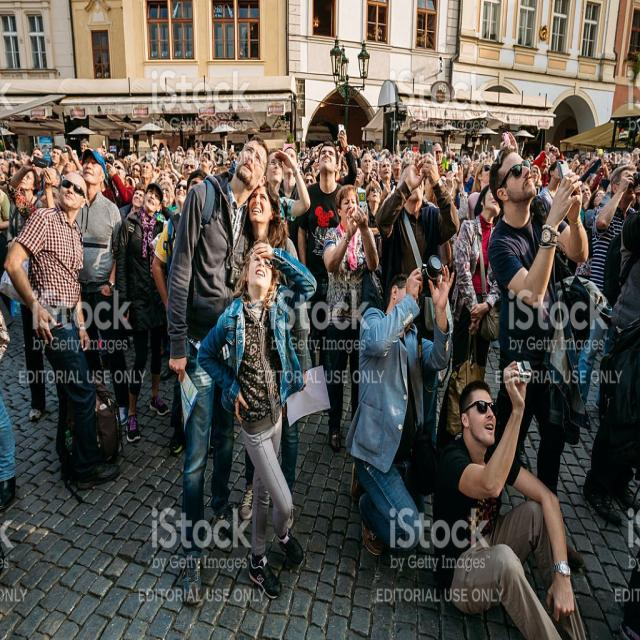body: (165, 132, 269, 608), (478, 145, 592, 566), (195, 235, 318, 600), (432, 360, 587, 640), (2, 170, 122, 484), (343, 261, 455, 558), (374, 148, 460, 499), (238, 180, 310, 531), (297, 135, 639, 204), (0, 135, 252, 210), (8, 172, 82, 424), (152, 169, 210, 455), (577, 162, 640, 410), (322, 183, 380, 450), (114, 180, 172, 441), (74, 147, 124, 427), (297, 140, 345, 367), (453, 183, 504, 384), (589, 160, 638, 308), (265, 147, 312, 224), (0, 182, 11, 500), (278, 146, 302, 264), (100, 152, 134, 208), (119, 184, 148, 230), (18, 167, 44, 211), (365, 179, 383, 229), (172, 175, 189, 216), (182, 156, 199, 182)
